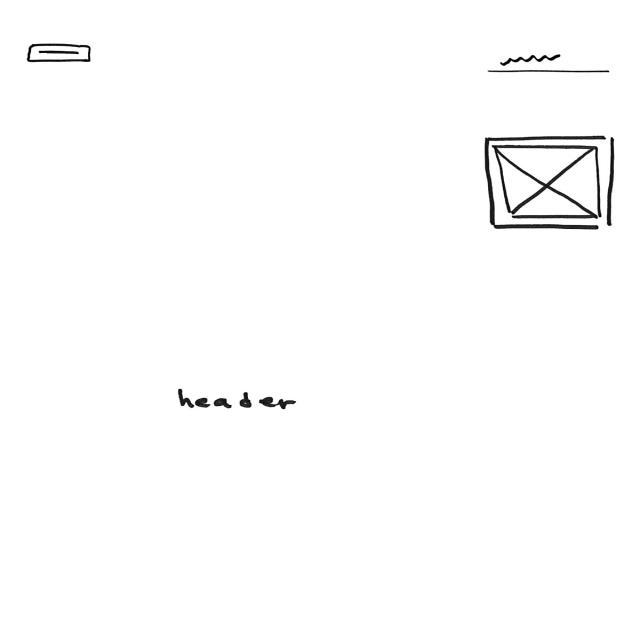container: (485, 134, 617, 232)
icon-button: (28, 43, 95, 66)
image: (494, 145, 604, 221)
input: (487, 53, 614, 76)
label: (176, 390, 302, 412)
